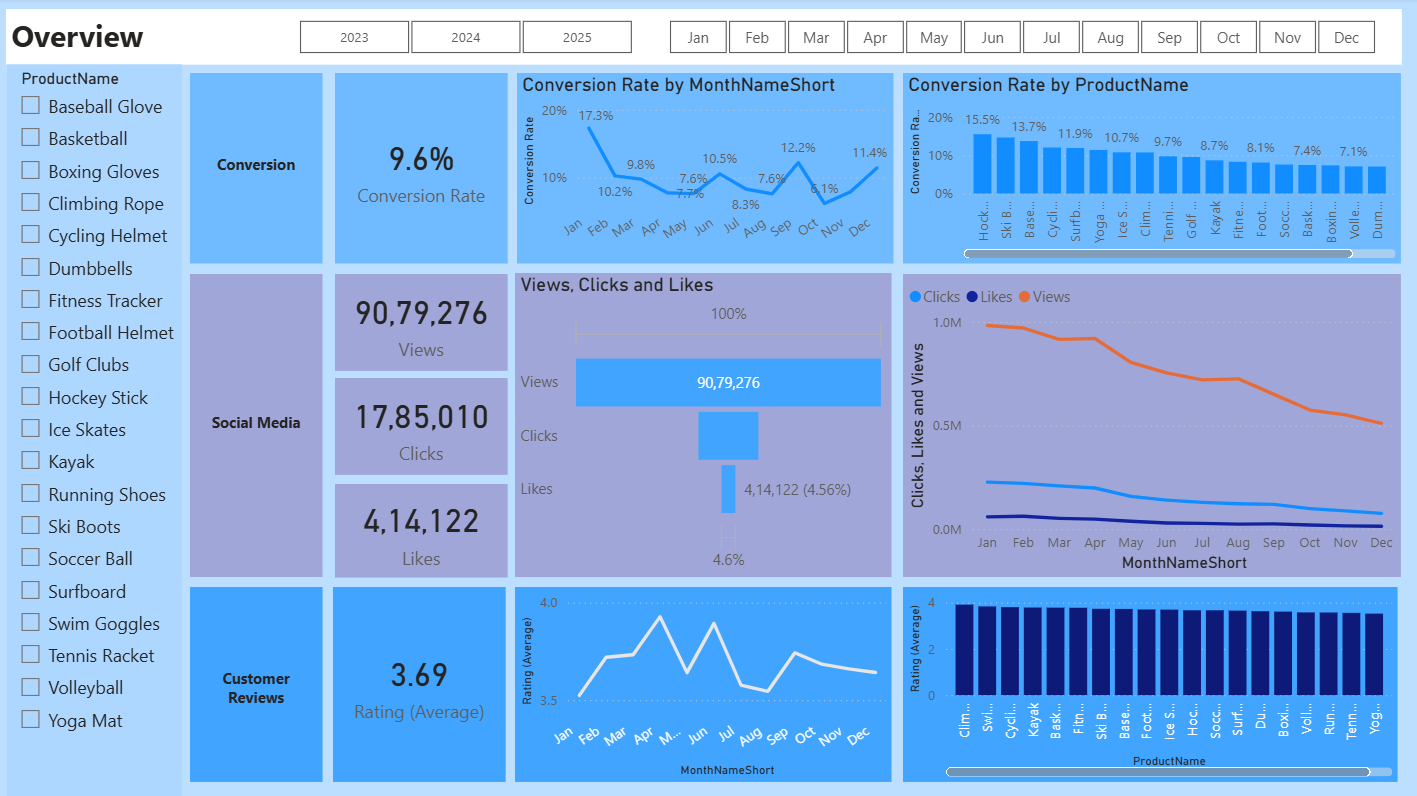

What the dashboard file says about the page in this screenshot:
{"tool":"powerbi","page":{"name":"Overview","canvas":[1280,720],"ordinal":0},"visuals":[{"type":"textbox","box":[8.8,9.7,1252.8,49.6],"z":0},{"type":"slicer","fields":{"Values":["dim_products.ProductName"]},"box":[9.7,59.3,156.6,660.4],"z":1000},{"type":"textbox","box":[174.1,67.1,118.7,171.2],"z":2000},{"type":"textbox","box":[174.1,248,118.7,272.3],"z":3000},{"type":"textbox","box":[174.1,529.1,118.7,175.1],"z":4000},{"type":"card","fields":{"Values":["_Calculations.Conversion Rate"]},"box":[304.4,67.1,154.7,171.2],"z":5000},{"type":"card","fields":{"Values":["_Calculations.Views"]},"box":[304.4,248,154.7,86.6],"z":6000},{"type":"card","fields":{"Values":["_Calculations.Clicks"]},"box":[304.4,341.4,154.7,86.6],"z":7000},{"type":"card","fields":{"Values":["_Calculations.Likes"]},"box":[304.4,436.7,154.7,83.6],"z":8000},{"type":"card","fields":{"Values":["_Calculations.Rating (Average)"]},"box":[302.5,529.1,154.7,175.1],"z":9000},{"type":"slicer","fields":{"Values":["Calender Calendar.Year"]},"box":[247.1,13.6,348.2,42.8],"z":10000},{"type":"slicer","fields":{"Values":["Calender Calendar.MonthNameShort"]},"box":[578.7,13.6,682.8,42.8],"z":11000},{"type":"lineChart","fields":{"Y":["_Calculations.Conversion Rate"],"Category":["Calender Calendar.MonthNameShort"]},"box":[467.8,67.1,337.5,171.2],"z":12000},{"type":"clusteredColumnChart","fields":{"Category":["dim_products.ProductName"],"Y":["_Calculations.Conversion Rate"]},"box":[814.1,67.1,447.4,171.2],"z":13000},{"type":"lineChart","fields":{"Category":["Calender Calendar.MonthNameShort"],"Y":["_Calculations.Clicks","_Calculations.Likes","_Calculations.Views"]},"box":[814.1,248,447.4,272.3],"z":14000},{"type":"funnel","fields":{"Y":["_Calculations.Views","_Calculations.Clicks","_Calculations.Likes"]},"box":[465.9,247.1,338.5,273.3],"z":15000},{"type":"lineChart","fields":{"Y":["_Calculations.Rating (Average)"],"Category":["Calender Calendar.MonthNameShort"]},"box":[465.9,529.1,338.5,175.1],"z":16000},{"type":"clusteredColumnChart","fields":{"Y":["_Calculations.Rating (Average)"],"Category":["dim_products.ProductName"]},"box":[814.1,529.1,444.5,175.1],"z":17000}]}

Visuals, with their boxes in screenshot pixels (x1, y1, x2, y2), scaled from the page's 1280x720 canvas onto the 1417x796 screenshot:
textbox: bbox(10, 11, 1397, 66)
slicer - dim_products.ProductName: bbox(11, 66, 184, 795)
textbox: bbox(193, 74, 324, 263)
textbox: bbox(193, 274, 324, 575)
textbox: bbox(193, 585, 324, 779)
card - _Calculations.Conversion Rate: bbox(337, 74, 508, 263)
card - _Calculations.Views: bbox(337, 274, 508, 370)
card - _Calculations.Clicks: bbox(337, 377, 508, 473)
card - _Calculations.Likes: bbox(337, 483, 508, 575)
card - _Calculations.Rating (Average): bbox(335, 585, 506, 779)
slicer - Calender Calendar.Year: bbox(274, 15, 659, 62)
slicer - Calender Calendar.MonthNameShort: bbox(641, 15, 1397, 62)
lineChart - _Calculations.Conversion Rate x Calender Calendar.MonthNameShort: bbox(518, 74, 891, 263)
clusteredColumnChart - dim_products.ProductName x _Calculations.Conversion Rate: bbox(901, 74, 1397, 263)
lineChart - Calender Calendar.MonthNameShort x _Calculations.Clicks: bbox(901, 274, 1397, 575)
funnel - _Calculations.Views x _Calculations.Clicks: bbox(516, 273, 890, 575)
lineChart - _Calculations.Rating (Average) x Calender Calendar.MonthNameShort: bbox(516, 585, 890, 779)
clusteredColumnChart - _Calculations.Rating (Average) x dim_products.ProductName: bbox(901, 585, 1393, 779)
